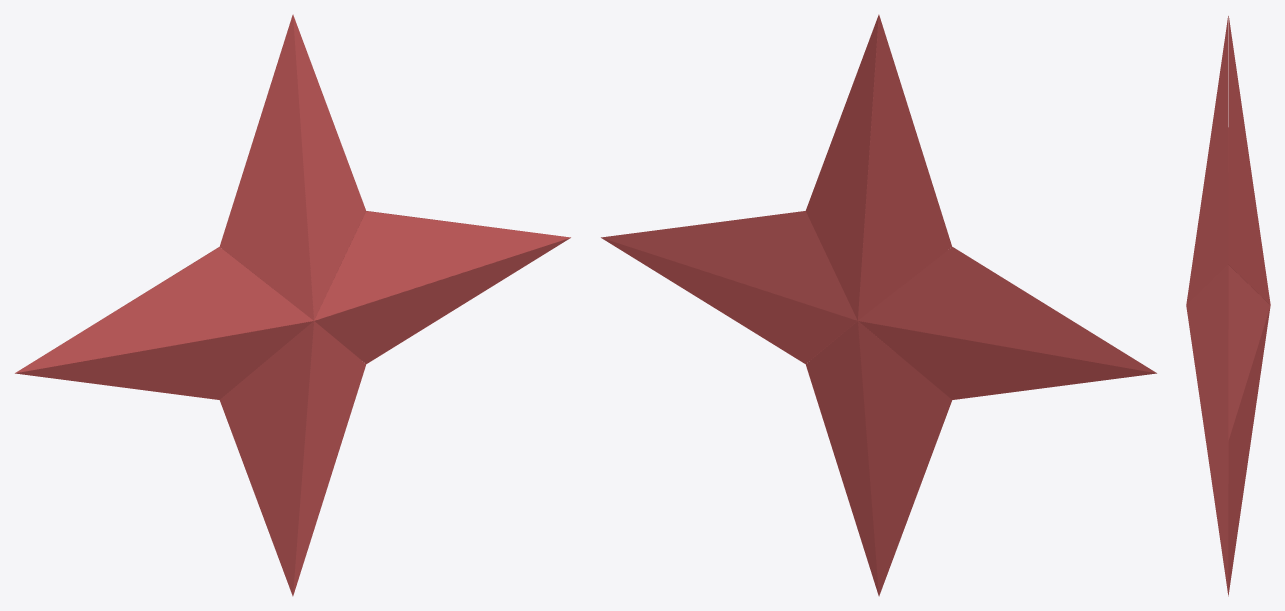
Rendered from km3_kurumajiku.glb.
The picture shows the model from 3 angles, left to right: view 1: azimuth 30°, elevation 25°; view 2: azimuth 150°, elevation 25°; view 3: azimuth 270°, elevation 25°; orthographic projection.
Parts seen in each view (by area): view 1: km3_kurumajiku_col; view 2: km3_kurumajiku_col; view 3: km3_kurumajiku_col.
Boxes of the visible parts, left/top/right/bottom form: km3_kurumajiku_col: left=15, top=14, right=570, bottom=596; km3_kurumajiku_col: left=601, top=14, right=1156, bottom=596; km3_kurumajiku_col: left=1186, top=16, right=1270, bottom=596.
Bounding box in the file's own units: 7.6 × 7.6 × 0.9985.
